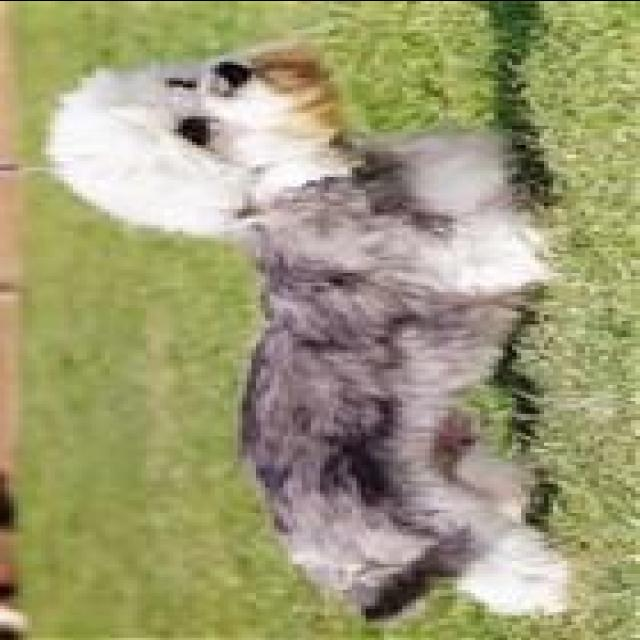dandie_dinmont: (46, 42, 572, 624)
